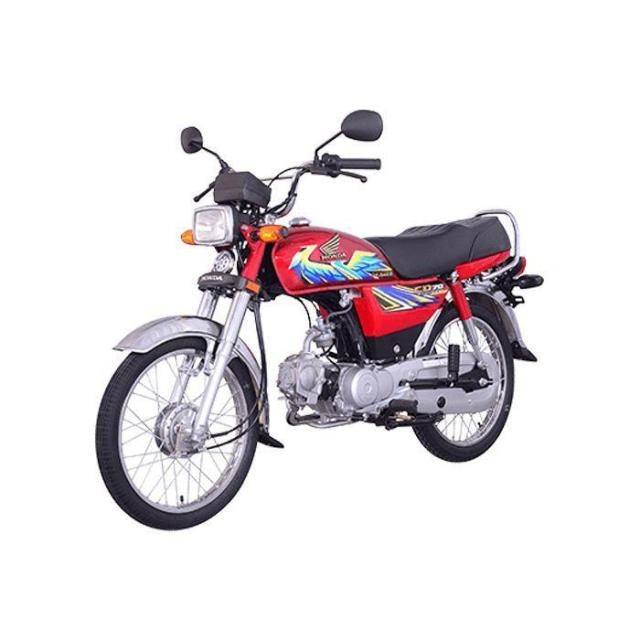motorcycle: (69, 58, 548, 546)
